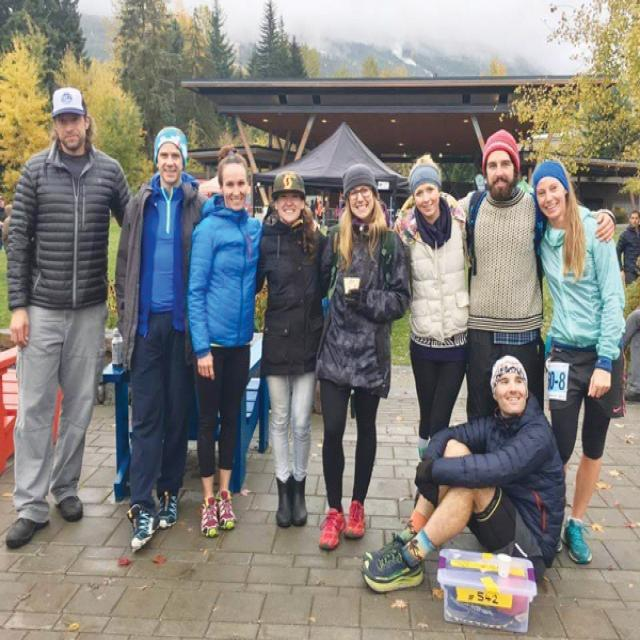body: (4, 83, 134, 552), (356, 349, 571, 597), (456, 128, 618, 421), (109, 122, 218, 556), (530, 154, 627, 566), (310, 163, 412, 553), (187, 140, 266, 539), (254, 170, 331, 531), (392, 149, 472, 462), (616, 304, 640, 406), (613, 208, 640, 291), (374, 190, 408, 230), (305, 193, 344, 224), (248, 174, 274, 220), (0, 179, 12, 268)
